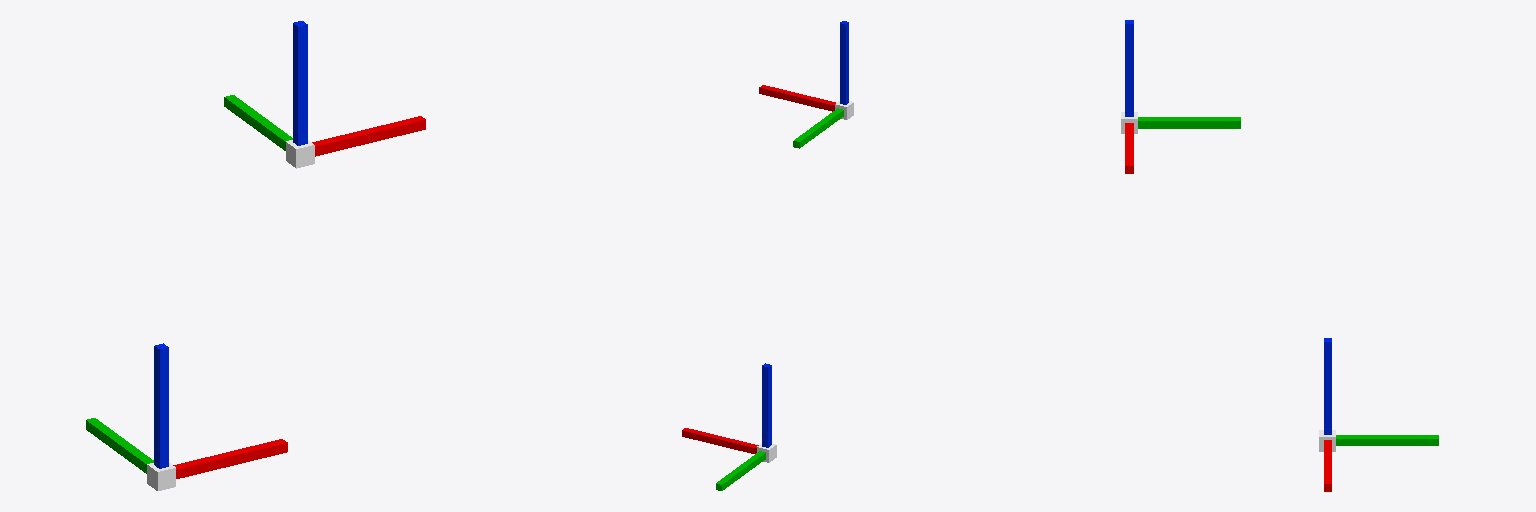
URDF robot description (bloc_support):
<robot name="bloc_support">
  <material name="frame_x_red">
    <color rgba="1 0 0 1"/>
  </material>
  <material name="frame_y_green">
    <color rgba="0 0.8 0 1"/>
  </material>
  <material name="frame_z_blue">
    <color rgba="0 0.2 1 1"/>
  </material>
  <material name="frame_origin_white">
    <color rgba="1 1 1 1"/>
  </material>

  <link name="bloc_support">
    <inertial>
      <origin xyz="-0.11143911559478534 -0.14255566442315717 0.0993634492738012" rpy="0 0 0"/>
      <mass value="15.459307932297913"/>
      <inertia ixx="0.223618" ixy="-6.8e-05" ixz="-0.042388" iyy="0.230323" iyz="-4e-05" izz="0.229776"/>
    </inertial>

    <visual>
      <origin xyz="0 0 0" rpy="0 0 0"/>
      <geometry>
        <mesh filename="file://@MODULE_INSTALL_LOCATION@/meshes/bloc_support/base_link.stl" scale="0.001 0.001 0.001"/>
      </geometry>
    </visual>

    <!-- Visible base frame marker: X red, Y green, Z blue. -->
    <visual>
      <origin xyz="0.04 0 0" rpy="0 0 0"/>
      <geometry><box size="0.08 0.006 0.006"/></geometry>
      <material name="frame_x_red"/>
    </visual>
    <visual>
      <origin xyz="0 0.04 0" rpy="0 0 0"/>
      <geometry><box size="0.006 0.08 0.006"/></geometry>
      <material name="frame_y_green"/>
    </visual>
    <visual>
      <origin xyz="0 0 0.04" rpy="0 0 0"/>
      <geometry><box size="0.006 0.006 0.08"/></geometry>
      <material name="frame_z_blue"/>
    </visual>
    <visual>
      <origin xyz="0 0 0" rpy="0 0 0"/>
      <geometry><box size="0.012 0.012 0.012"/></geometry>
      <material name="frame_origin_white"/>
    </visual>

    <!-- Visible centre_capteur marker at [0.0075, -0.142618, 0.25575]. -->
    <visual>
      <origin xyz="0.0475 -0.142618 0.25575" rpy="0 0 0"/>
      <geometry><box size="0.08 0.006 0.006"/></geometry>
      <material name="frame_x_red"/>
    </visual>
    <visual>
      <origin xyz="0.0075 -0.102618 0.25575" rpy="0 0 0"/>
      <geometry><box size="0.006 0.08 0.006"/></geometry>
      <material name="frame_y_green"/>
    </visual>
    <visual>
      <origin xyz="0.0075 -0.142618 0.29575" rpy="0 0 0"/>
      <geometry><box size="0.006 0.006 0.08"/></geometry>
      <material name="frame_z_blue"/>
    </visual>
    <visual>
      <origin xyz="0.0075 -0.142618 0.25575" rpy="0 0 0"/>
      <geometry><box size="0.012 0.012 0.012"/></geometry>
      <material name="frame_origin_white"/>
    </visual>

    <collision>
      <origin xyz="0 0 0" rpy="0 0 0"/>
      <geometry>
        <mesh filename="file://@MODULE_INSTALL_LOCATION@/meshes/bloc_support/base_link.stl" scale="0.001 0.001 0.001"/>
      </geometry>
    </collision>
  </link>
</robot>

--- Render facts (derived) ---
The picture shows the robot from 3 angles, left to right: view 1: azimuth 30°, elevation 25°; view 2: azimuth 150°, elevation 25°; view 3: azimuth 270°, elevation 25°; orthographic projection.
Model bloc_support with 1 links and 0 joints (none), rooted at bloc_support, posed all joints at 0.
Links seen in each view (by area): view 1: bloc_support; view 2: bloc_support; view 3: bloc_support.
Link boxes in pixels (left/top/right/bottom): bloc_support: left=86, top=21, right=425, bottom=490; bloc_support: left=682, top=21, right=853, bottom=490; bloc_support: left=1121, top=20, right=1438, bottom=491.
Size in the robot's own frame: 0.0935 by 0.2286 by 0.3418 metres.
Geometry: only primitive shapes (box / cylinder / sphere) drawn; not drawn: 1 mesh visual (reference in a form the renderer does not follow).
